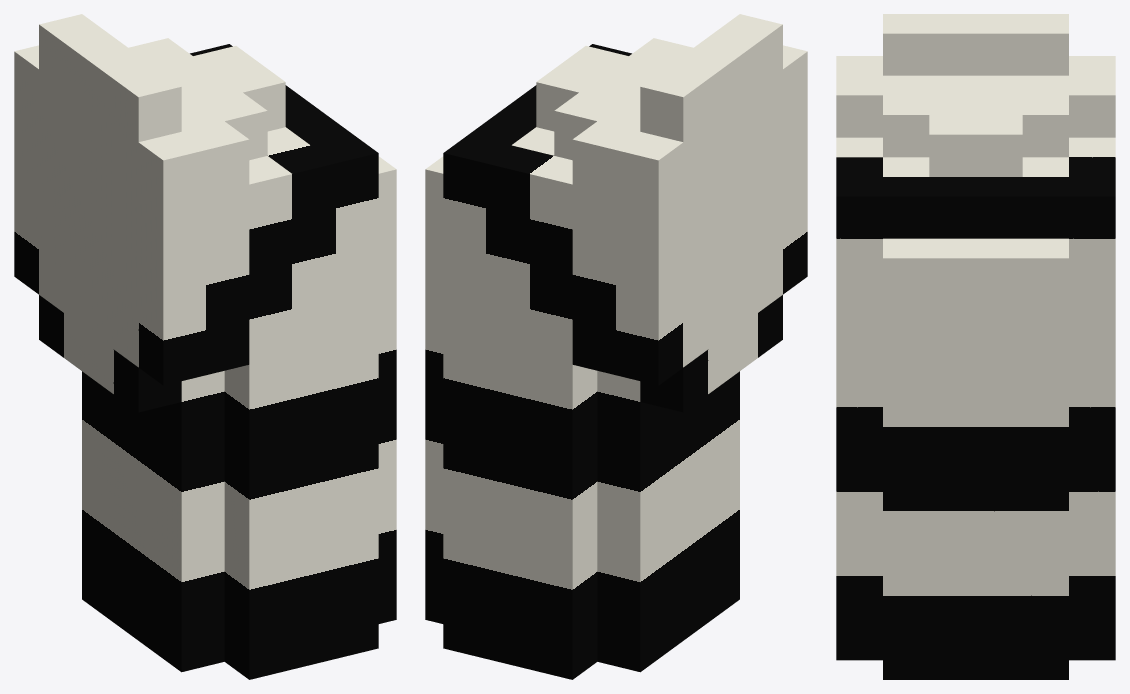
Rendered from rekag3.dae.
The picture shows the model from 3 angles, left to right: view 1: azimuth 30°, elevation 25°; view 2: azimuth 150°, elevation 25°; view 3: azimuth 270°, elevation 25°; orthographic projection. The views are drawn at different scales.
Visible parts, largest first — view 1: Content; view 2: Content; view 3: Content.
Part boxes in pixels (left/top/right/bottom): Content: left=14, top=14, right=396, bottom=679; Content: left=425, top=14, right=807, bottom=679; Content: left=836, top=14, right=1115, bottom=679.
Bounding box in the file's own units: 6 × 13 × 6.
1 material, 1 textured.
